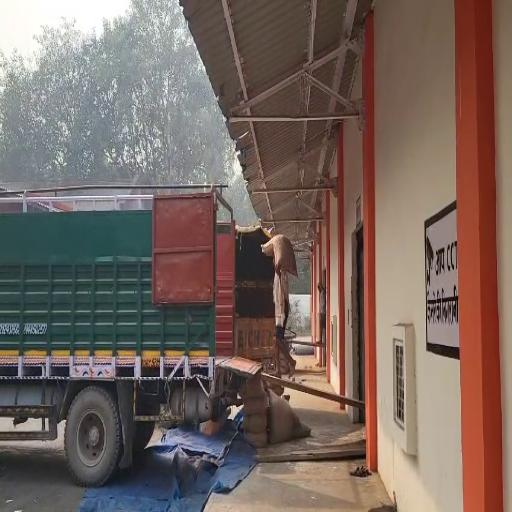bag: (258, 230, 298, 276)
